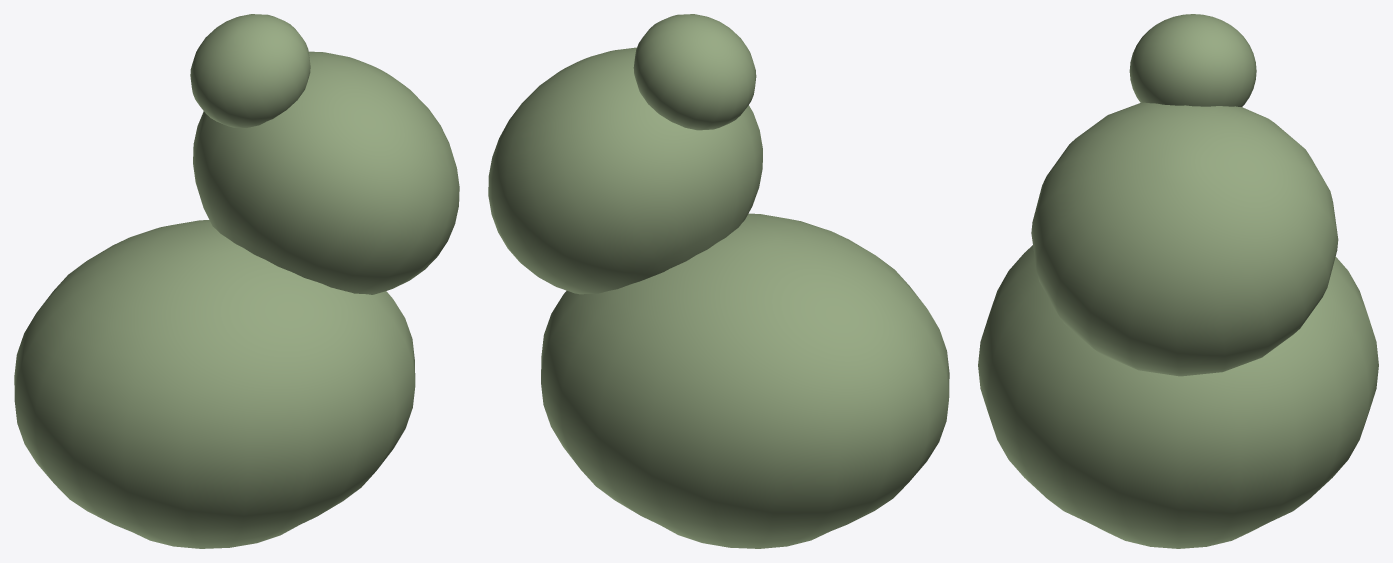
The model's file is PlantThreeDark.fbx.
The picture shows the model from 3 angles, left to right: view 1: azimuth 30°, elevation 25°; view 2: azimuth 150°, elevation 25°; view 3: azimuth 270°, elevation 25°; orthographic projection. The views are drawn at different scales.
Visible parts, largest first — view 1: pasted__pSphere5, pasted__pSphere6, pasted__pSphere7; view 2: pasted__pSphere5, pasted__pSphere6, pasted__pSphere7; view 3: pasted__pSphere5, pasted__pSphere6, pasted__pSphere7.
Part boxes in pixels (x1,y1,x2,y2): pasted__pSphere5: (14,220,415,548); pasted__pSphere6: (193,51,459,294); pasted__pSphere7: (190,14,310,127); pasted__pSphere5: (541,213,949,548); pasted__pSphere6: (488,47,762,294); pasted__pSphere7: (633,14,756,130); pasted__pSphere5: (978,245,1378,548); pasted__pSphere6: (1031,102,1338,376); pasted__pSphere7: (1129,14,1256,106).
Bounding box in the file's own units: 1.77 × 1.97 × 1.4.
